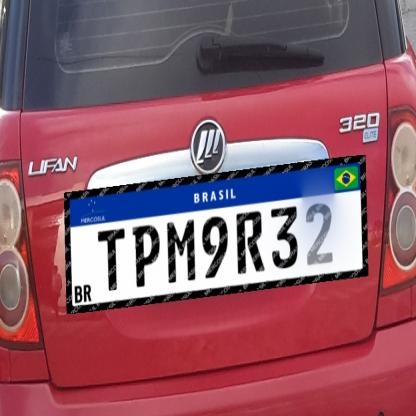PlacaM: (64, 155, 368, 314)
